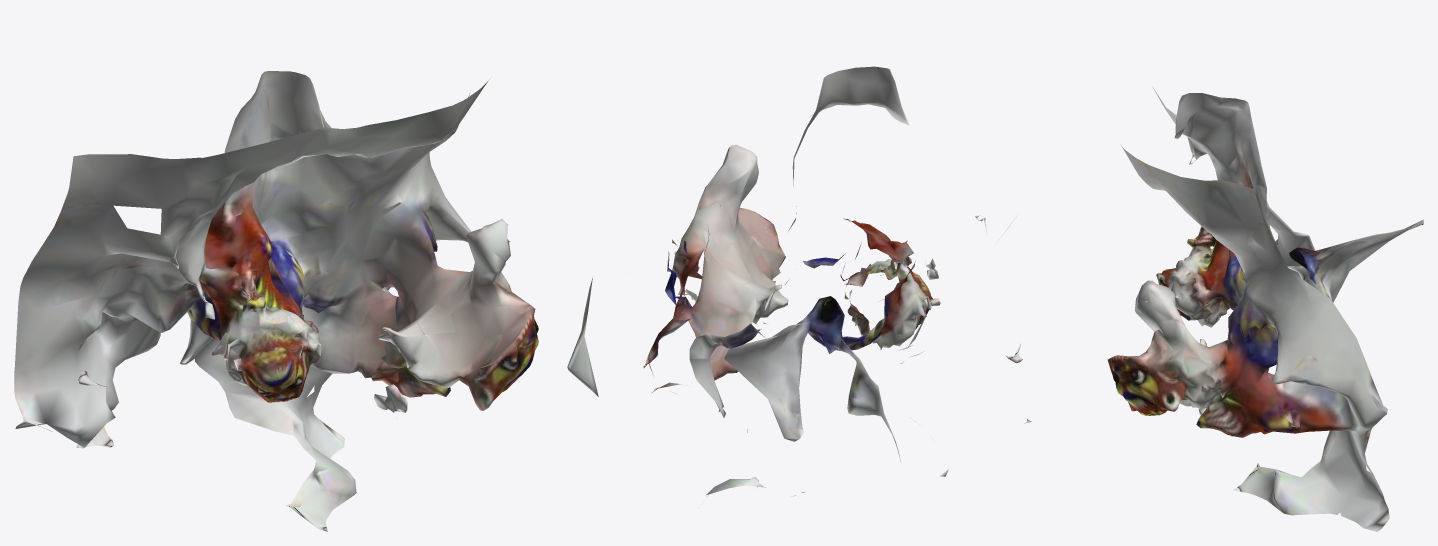
Rendered from hall.glb.
3 renders of one model, left to right at view 1: azimuth 30°, elevation 25°; view 2: azimuth 150°, elevation 25°; view 3: azimuth 270°, elevation 25°, orthographic. The views are drawn at different scales.
Size of the model in its own units: 1.01 by 0.9677 by 0.7549.
1 material, 1 textured.
